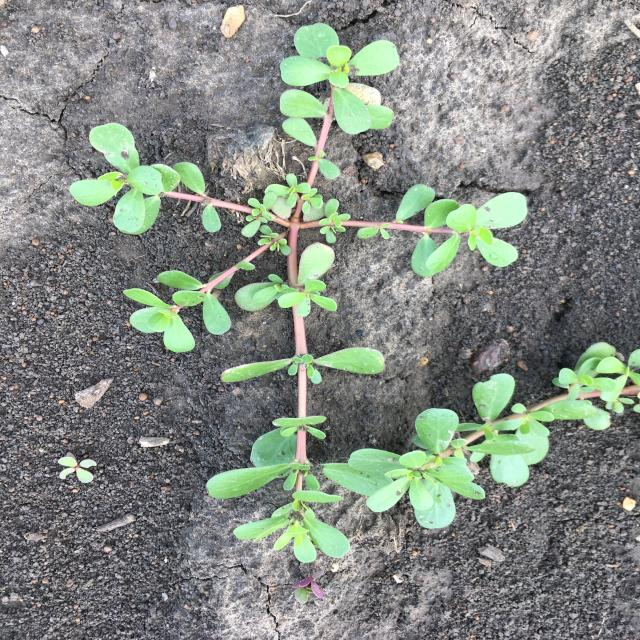Purslane: (69, 23, 528, 563), (348, 342, 640, 530)
